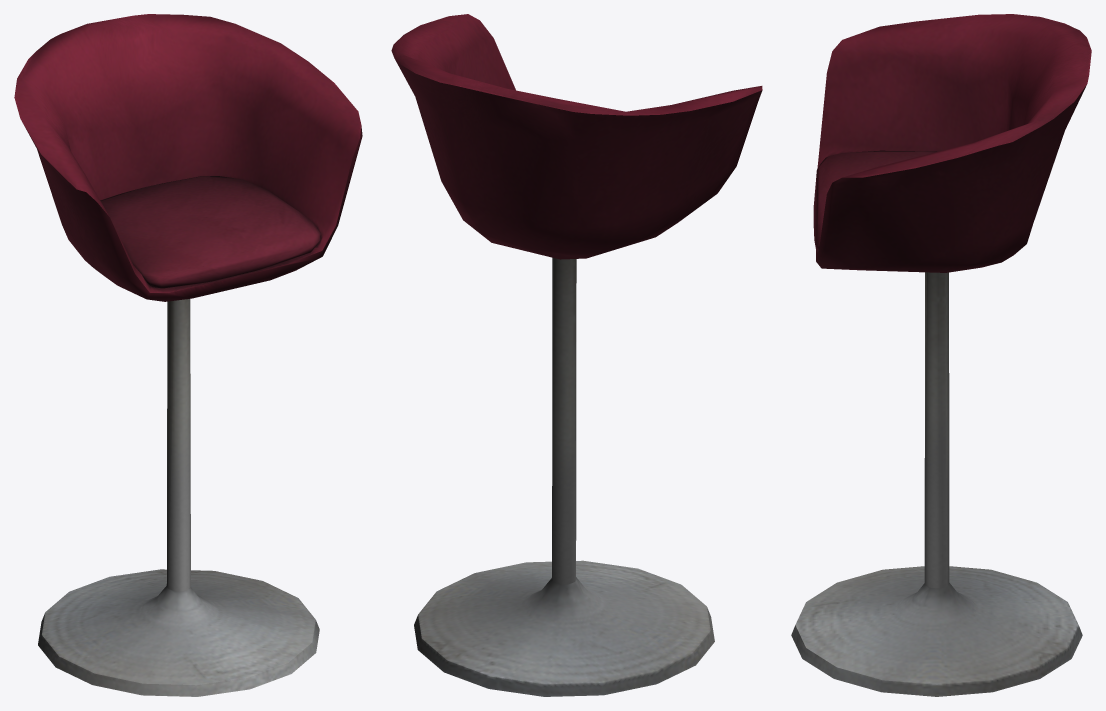
The model's file is armchair-2.FBX.
3 renders of one model, left to right at view 1: azimuth 30°, elevation 25°; view 2: azimuth 150°, elevation 25°; view 3: azimuth 270°, elevation 25°, orthographic. The views are drawn at different scales.
Visible parts, largest first — view 1: armchair-2_LOD0; view 2: armchair-2_LOD0; view 3: armchair-2_LOD0.
Boxes of the visible parts, x1,y1,x2,y2 form: armchair-2_LOD0: [14, 14, 362, 696]; armchair-2_LOD0: [391, 14, 762, 696]; armchair-2_LOD0: [791, 14, 1091, 696].
Size of what is drawn, in the model's own units: 22.29 by 41.05 by 19.31.
